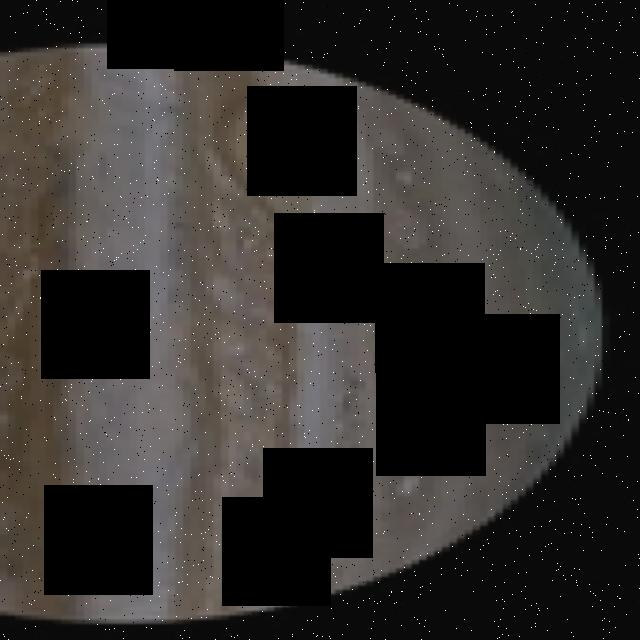Jupiter: (0, 43, 594, 624)
